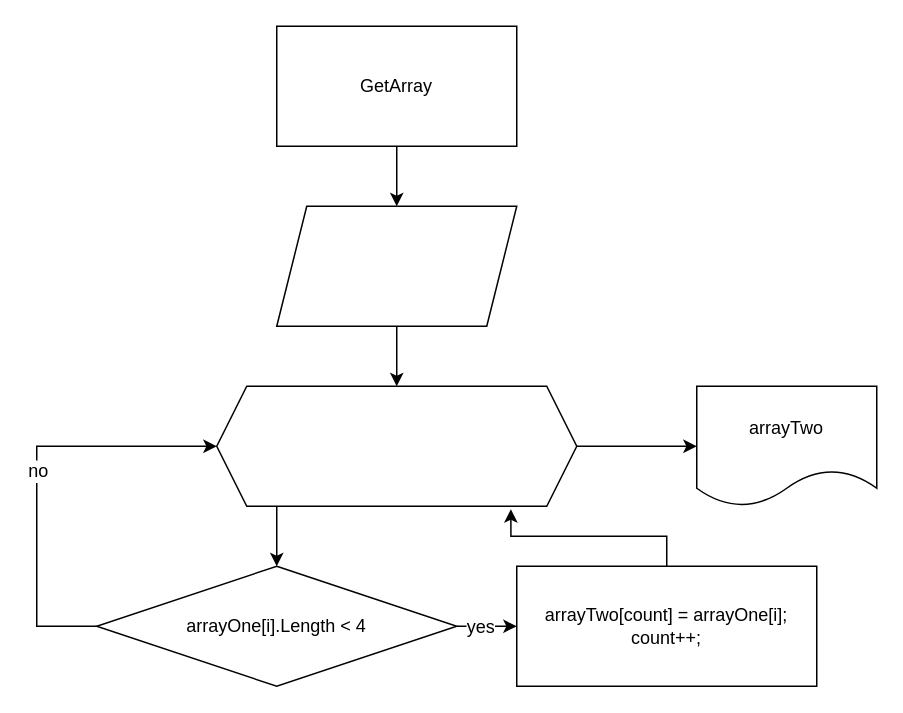
The diagram is 903 pixels wide and 713 high, and some of its shapes have lost their labels. Here are the shapes that lost their labels. From the top down, the box of each, then its label:
(275, 205, 517, 326): count = 0
(215, 385, 577, 506): int i = 0; i < arrayOne.Length; i++
